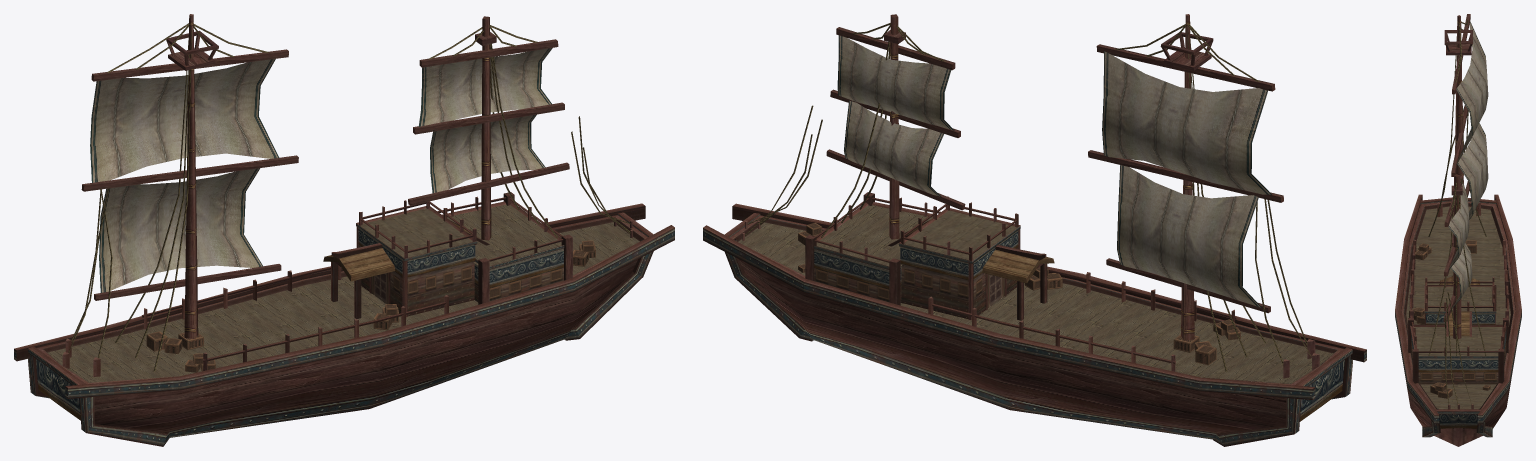
The model's file is zhanchuan_43.FBX.
3 renders of one model, left to right at view 1: azimuth 30°, elevation 25°; view 2: azimuth 150°, elevation 25°; view 3: azimuth 270°, elevation 25°, orthographic. The views are drawn at different scales.
Visible parts, largest first — view 1: zhanchuan_43; view 2: zhanchuan_43; view 3: zhanchuan_43.
Boxes of the visible parts, box(x1,y1,x2,y2) form: zhanchuan_43: box(14, 14, 674, 446); zhanchuan_43: box(703, 14, 1366, 446); zhanchuan_43: box(1395, 14, 1521, 446).
Size of what is drawn, in the model's own units: 4565 by 3040 by 1102.
